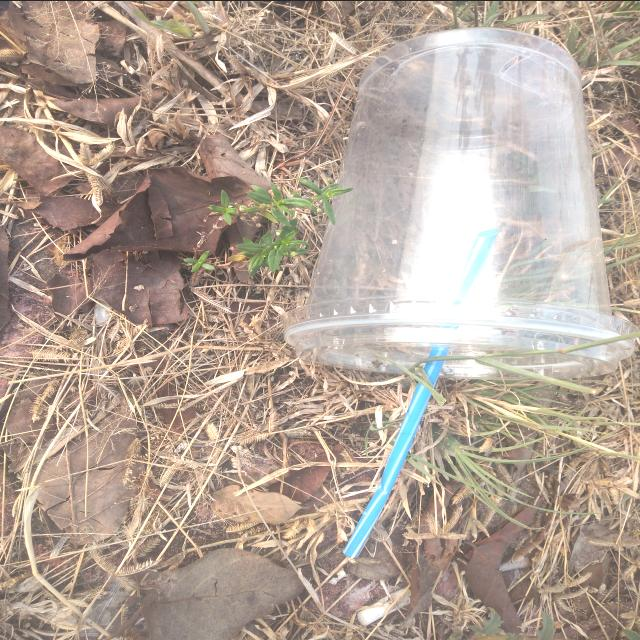Cigarette: (358, 587, 412, 625)
Disposable plastic cup: (280, 26, 639, 379)
Plastic lid: (280, 295, 638, 379)
Plastic straw: (343, 227, 499, 557)
